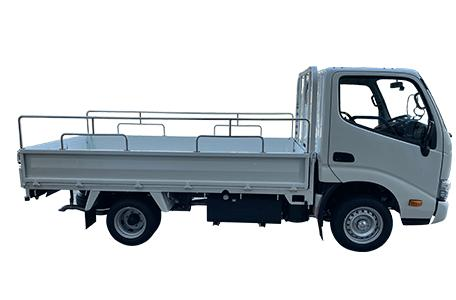truck: (18, 65, 451, 252)
